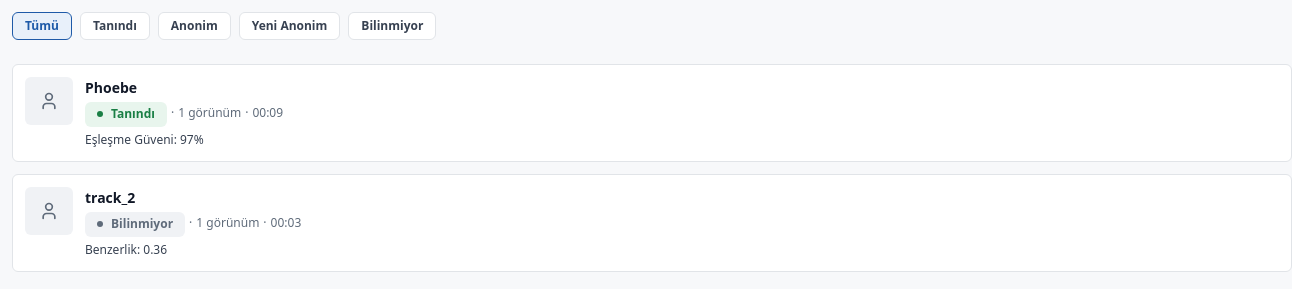
PersonList › filters by identity status
The width and height of the screenshot is (1292, 289).
Click the button "Bilinmiyor".
click(392, 26)  # box 348,12 -> 436,40
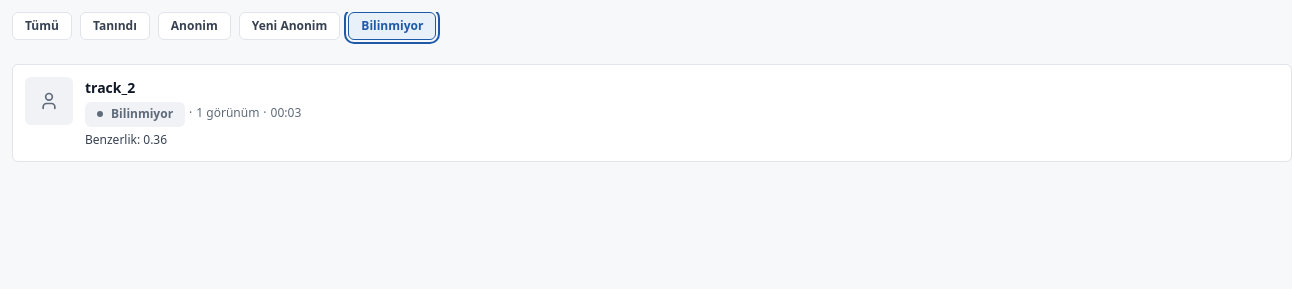
Check: the text "track_2" is shown, box 85,78 -> 135,97
Check: the option "Phoebe" is gone
